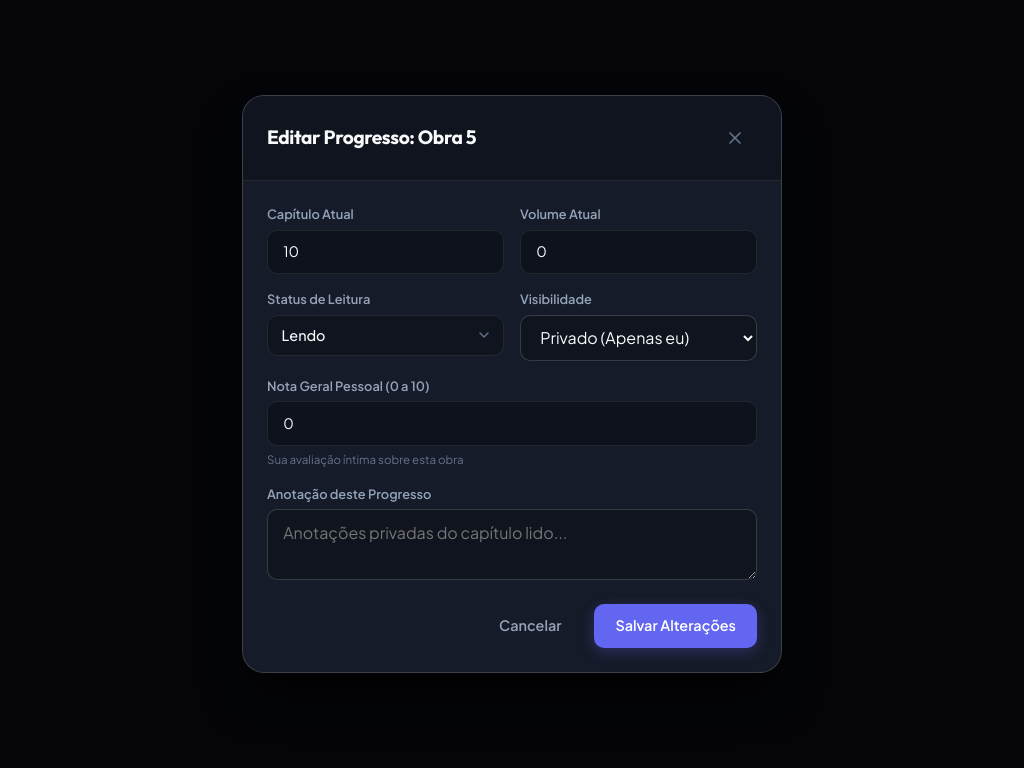
ShelfEditModal › desabilita os botões enquanto salva para evitar envio duplicado
Click the button "Salvar Alterações" at (676, 626), box [594,604,757,648]
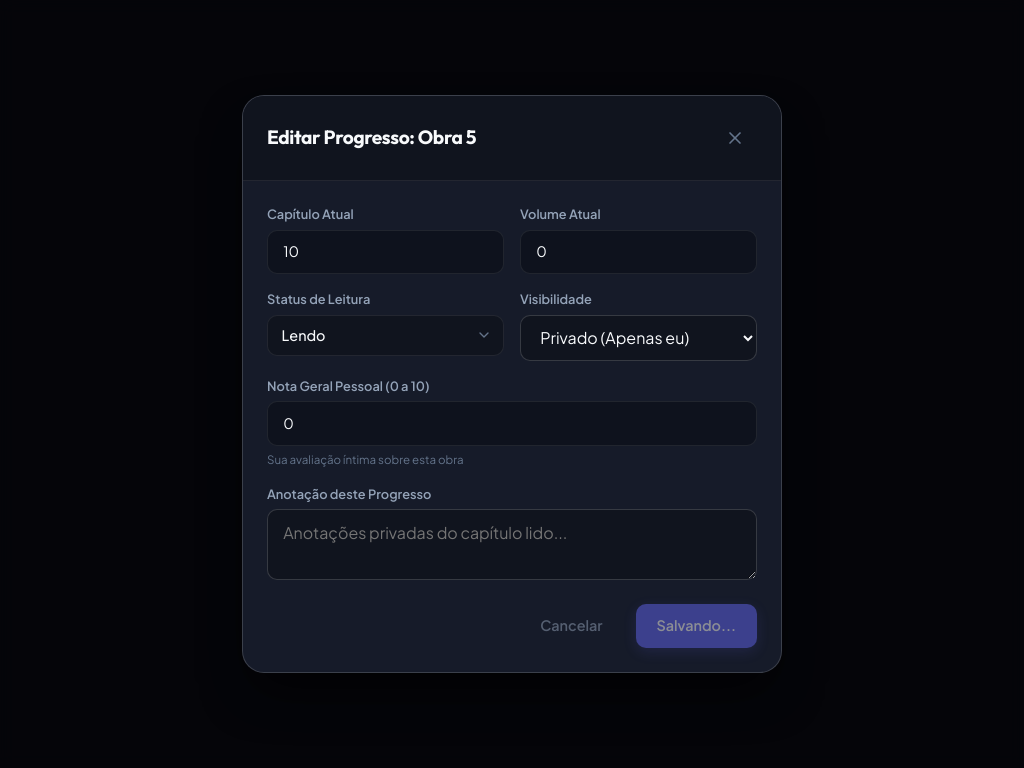
expect the button "Salvando..." is disabled: met, box [636,604,757,648]
expect the button "Cancelar" is disabled: met, box [519,604,624,648]
